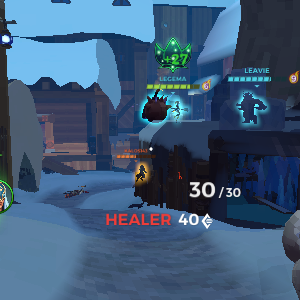model: (130, 159, 151, 188)
